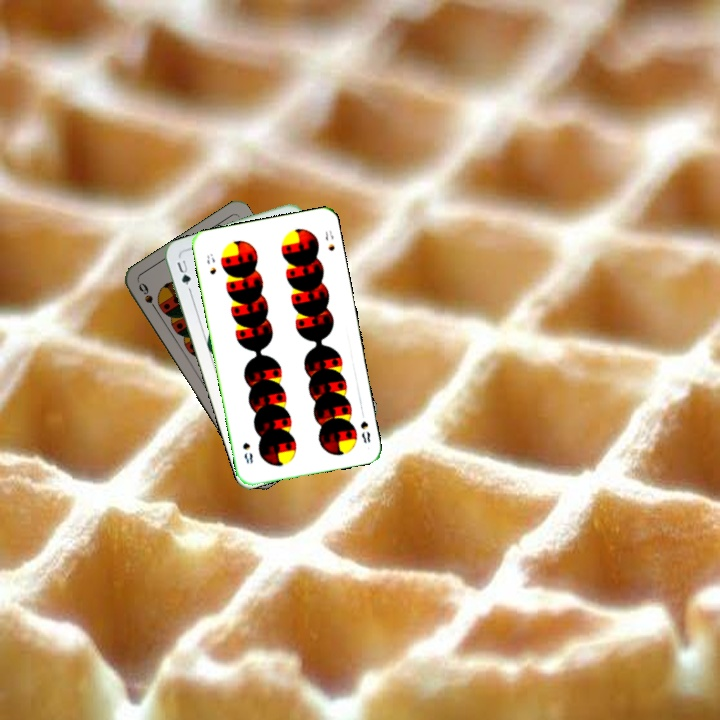GU: (173, 256, 193, 294)
S8: (356, 417, 373, 446), (203, 249, 219, 277)
S9: (134, 278, 161, 315)
